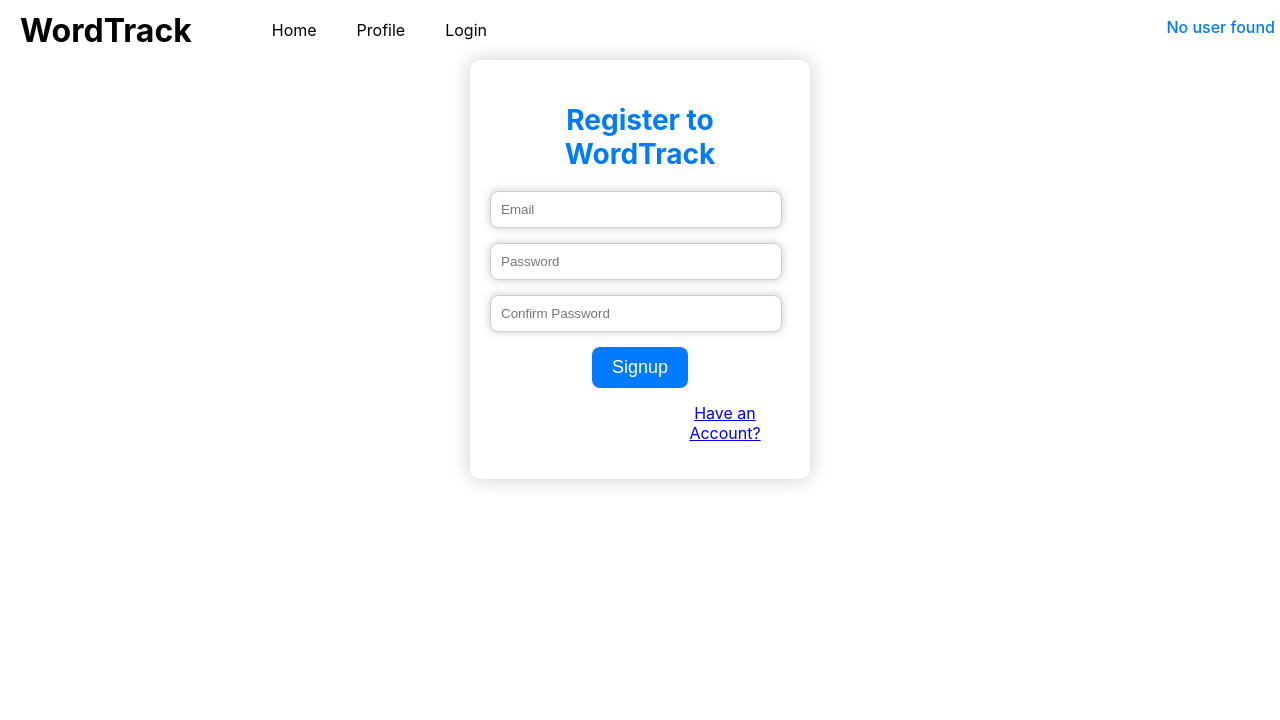
Scenario: valid email input signup test: short email › should redirect to home
The width and height of the screenshot is (1280, 720).
Type "i@li.ca" into the field with test id "input-text-email" at x=636, y=210, box [490, 191, 782, 228]
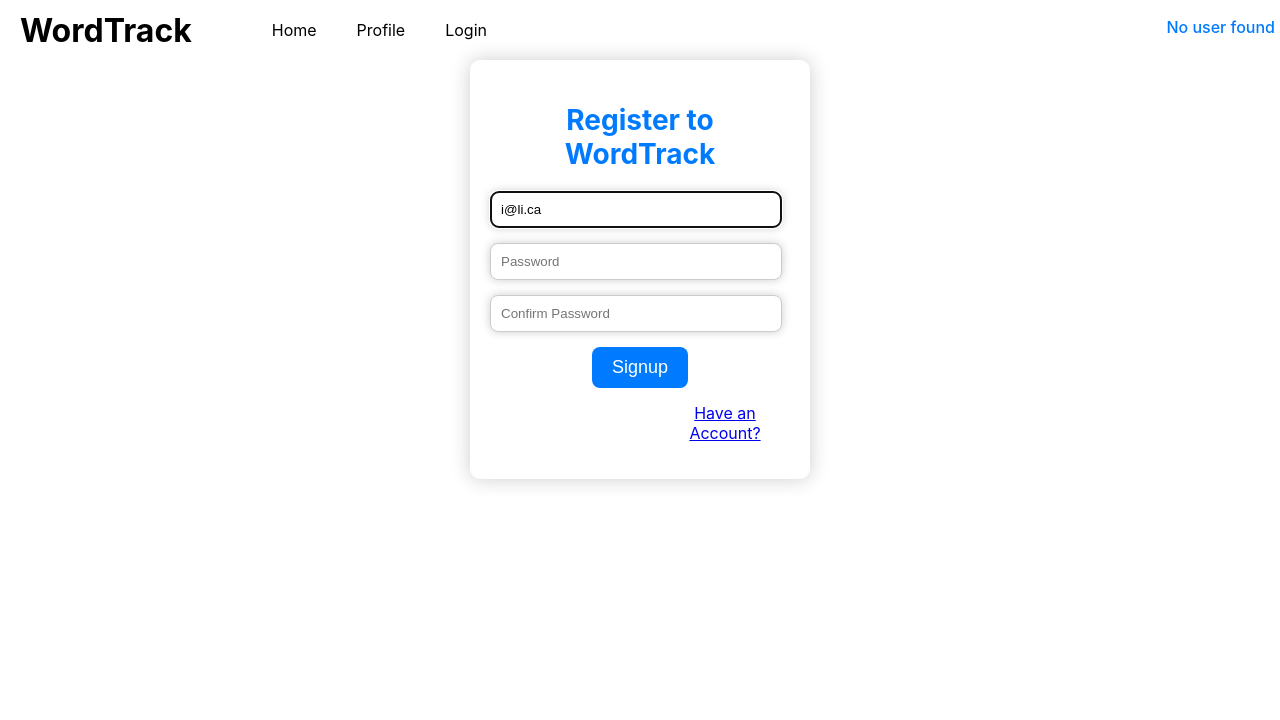
Click the button with test id "btn-signup" at x=640, y=368, box [592, 347, 688, 388]
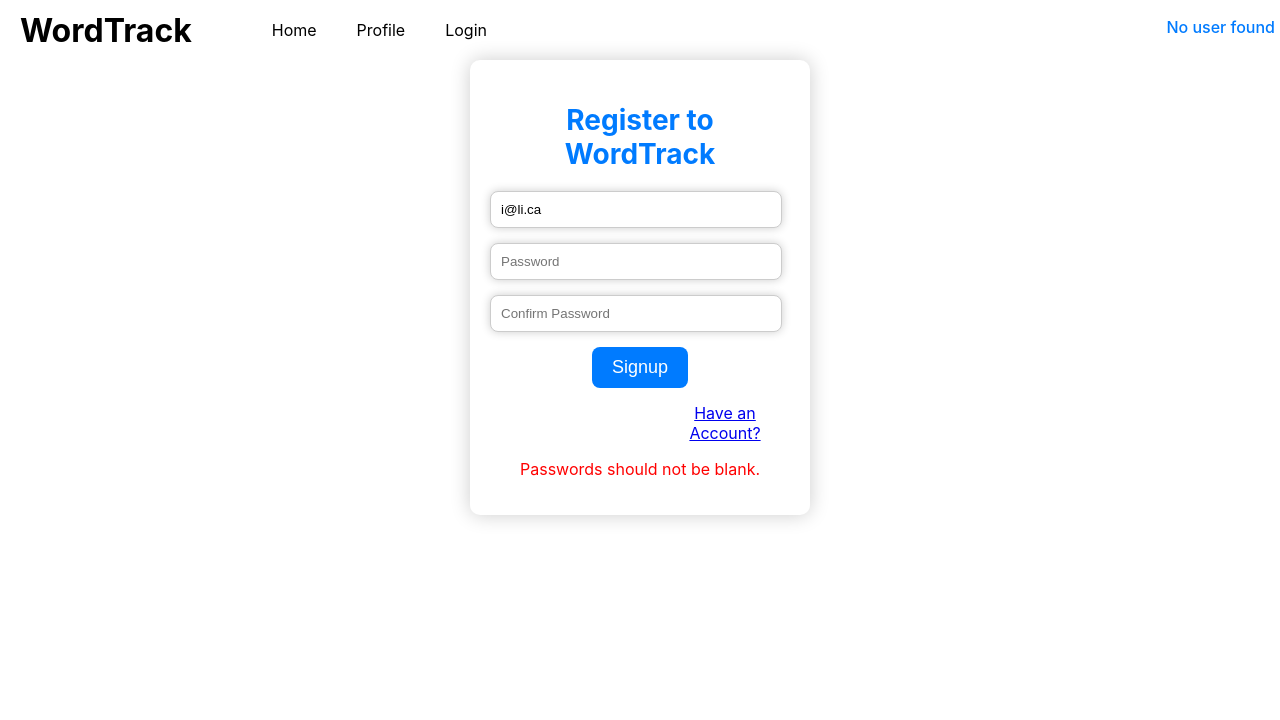
Expected: the text "Passwords should not be blank." is shown, [520, 459, 760, 479]
